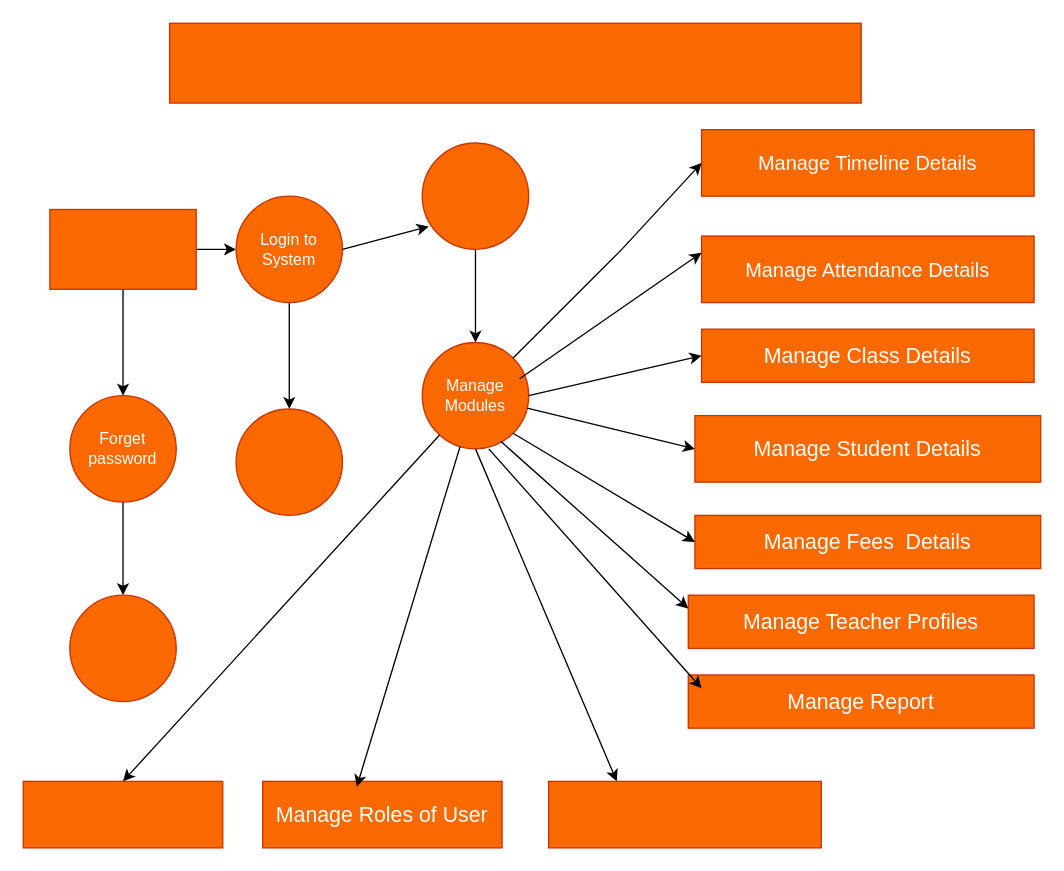
This 1064x871 diagram has some shape labels left out. Here are the shapes that lost their labels. From the top down, the centre of each, then its label:
At pixel 514 62: "Student Information System".
At pixel 475 195: "Check Roles of Access".
At pixel 122 248: "Admin".
At pixel 288 461: "Check Credentials".
At pixel 122 648: "Send Email to User".
At pixel 122 814: "Manage system admins".
